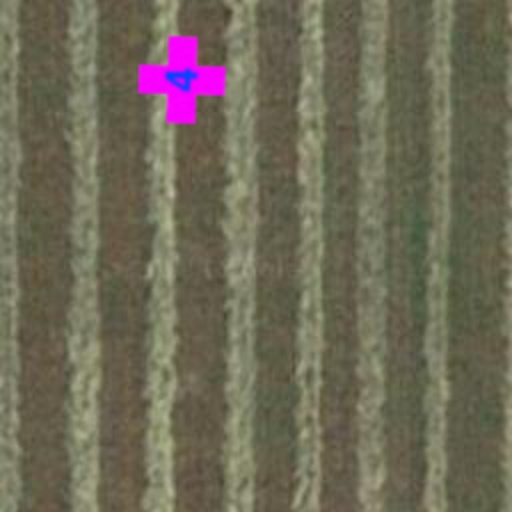cross: (136, 34, 228, 126)
